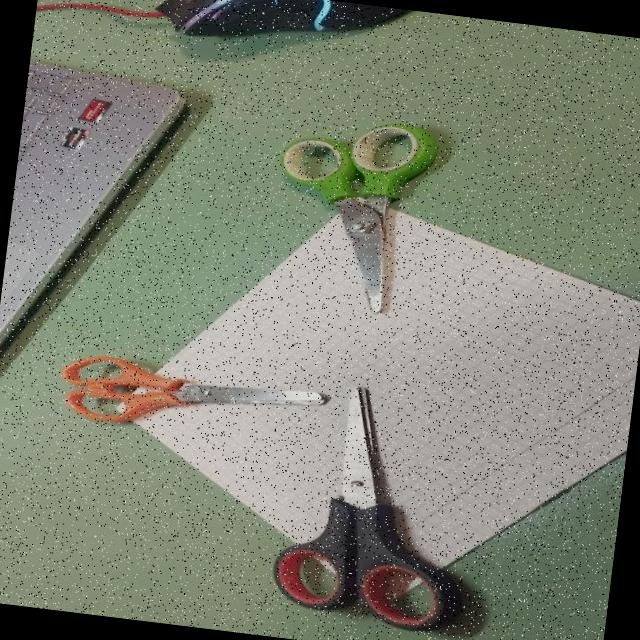scissors: (253, 373, 485, 640), (253, 105, 448, 322), (53, 348, 332, 450)
